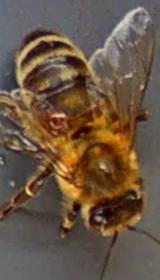varroa_mite: (41, 103, 68, 136)
